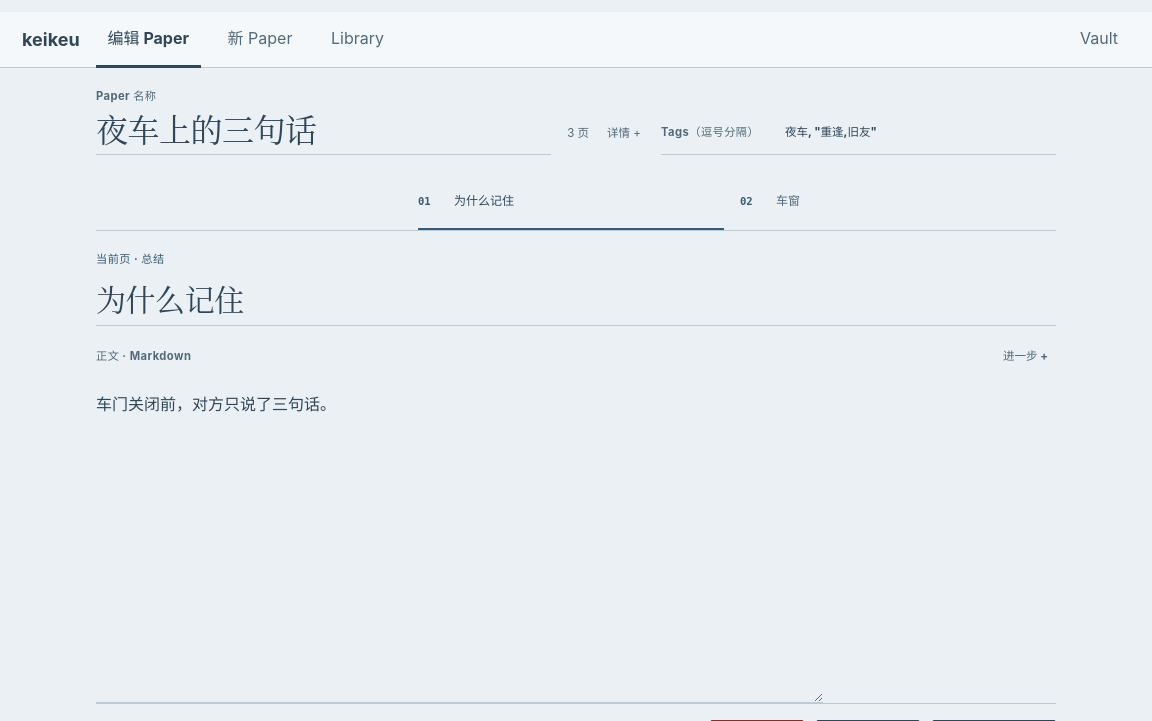
Test: Road v0.7 development-only prototype › shows the compact Shell and marks the current daily location semantically
Expected: the button "Vault" is shown, [1068,12,1130,68]
Expected: the button "新 Paper" is shown, [205,12,315,68]
Click the button "Library" at (358, 40), box [319,12,396,68]
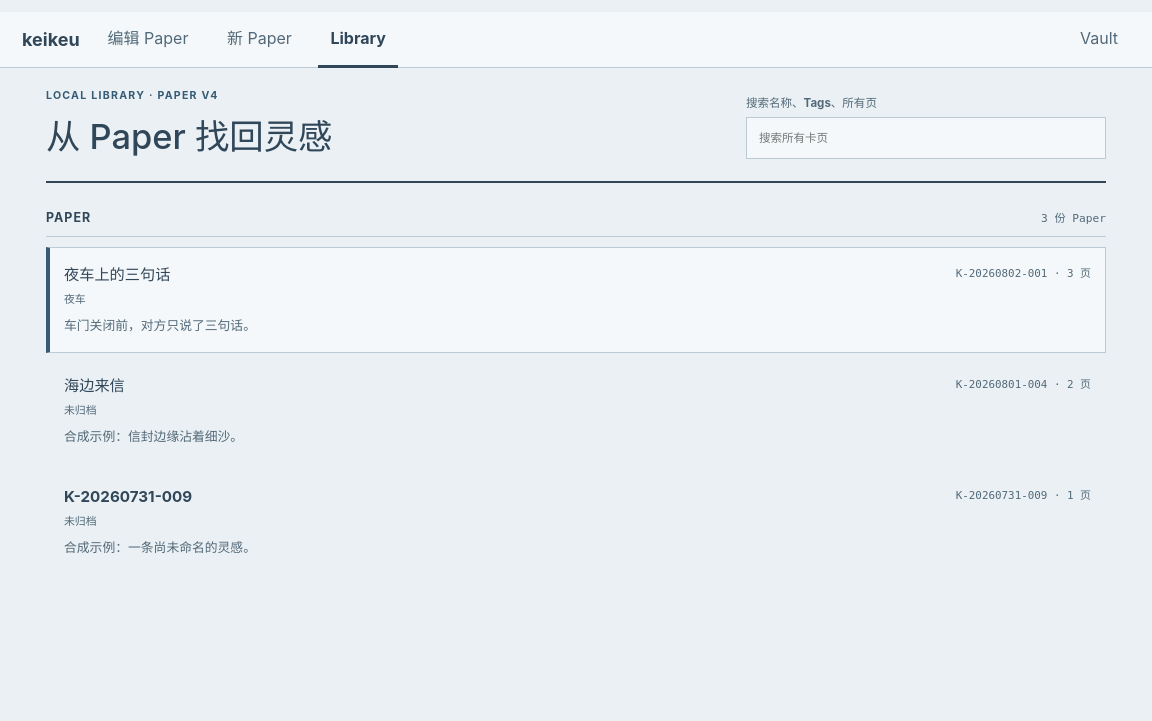
Expected: the element with class "library-v4-projection" is shown
